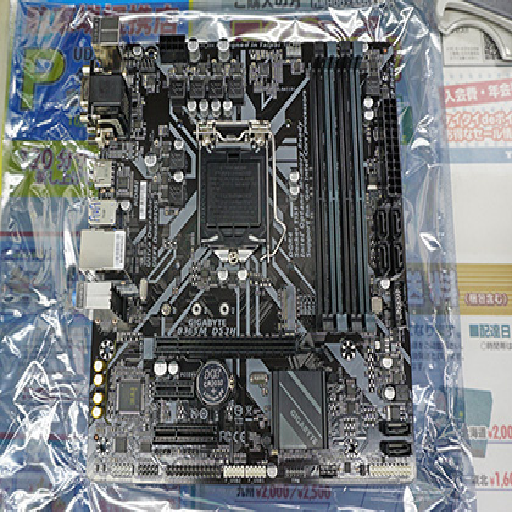CPU: (197, 132, 272, 264)
GPU: (150, 334, 308, 362)
MOTHERBOARD: (85, 35, 421, 486)
RAM: (305, 43, 377, 334)
SSD: (276, 286, 298, 331)
